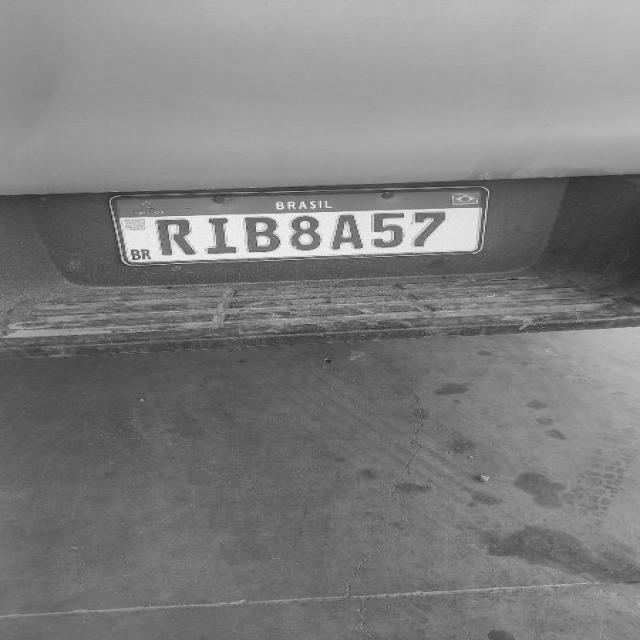placa_mercosul: (114, 185, 488, 267)
